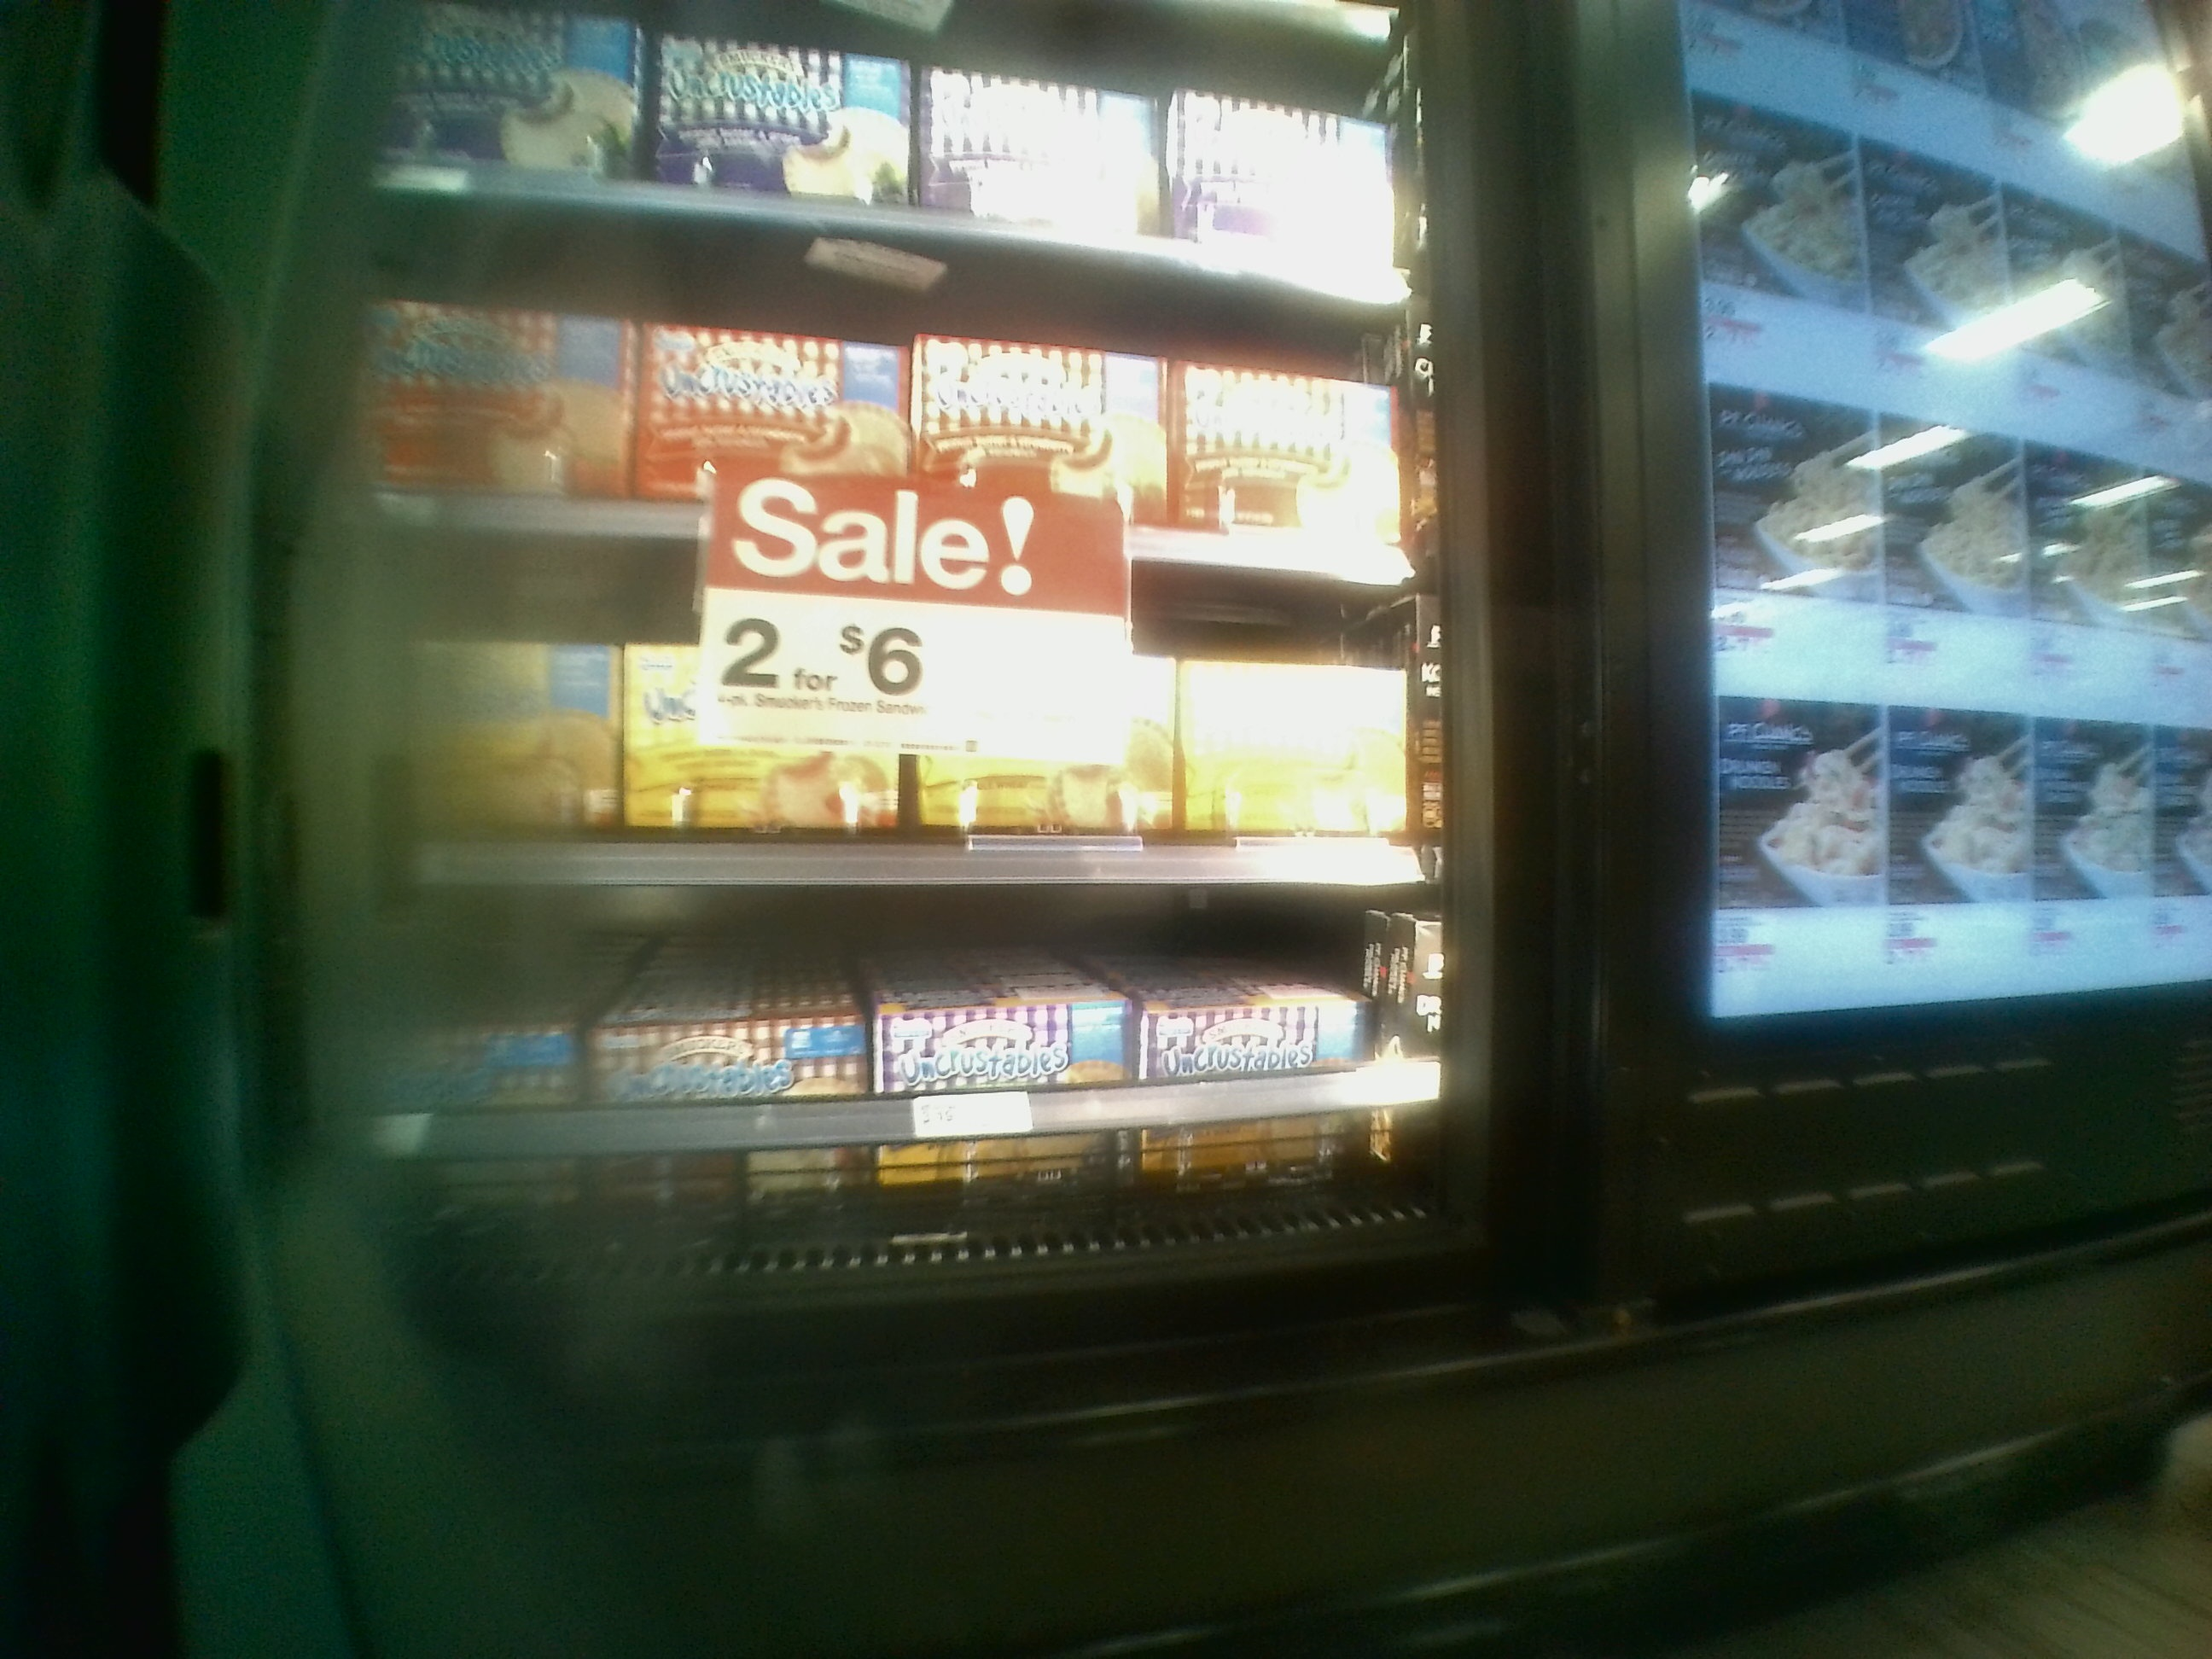shelf: (361, 892, 1484, 1277), (354, 186, 1428, 589), (341, 594, 1449, 903)
